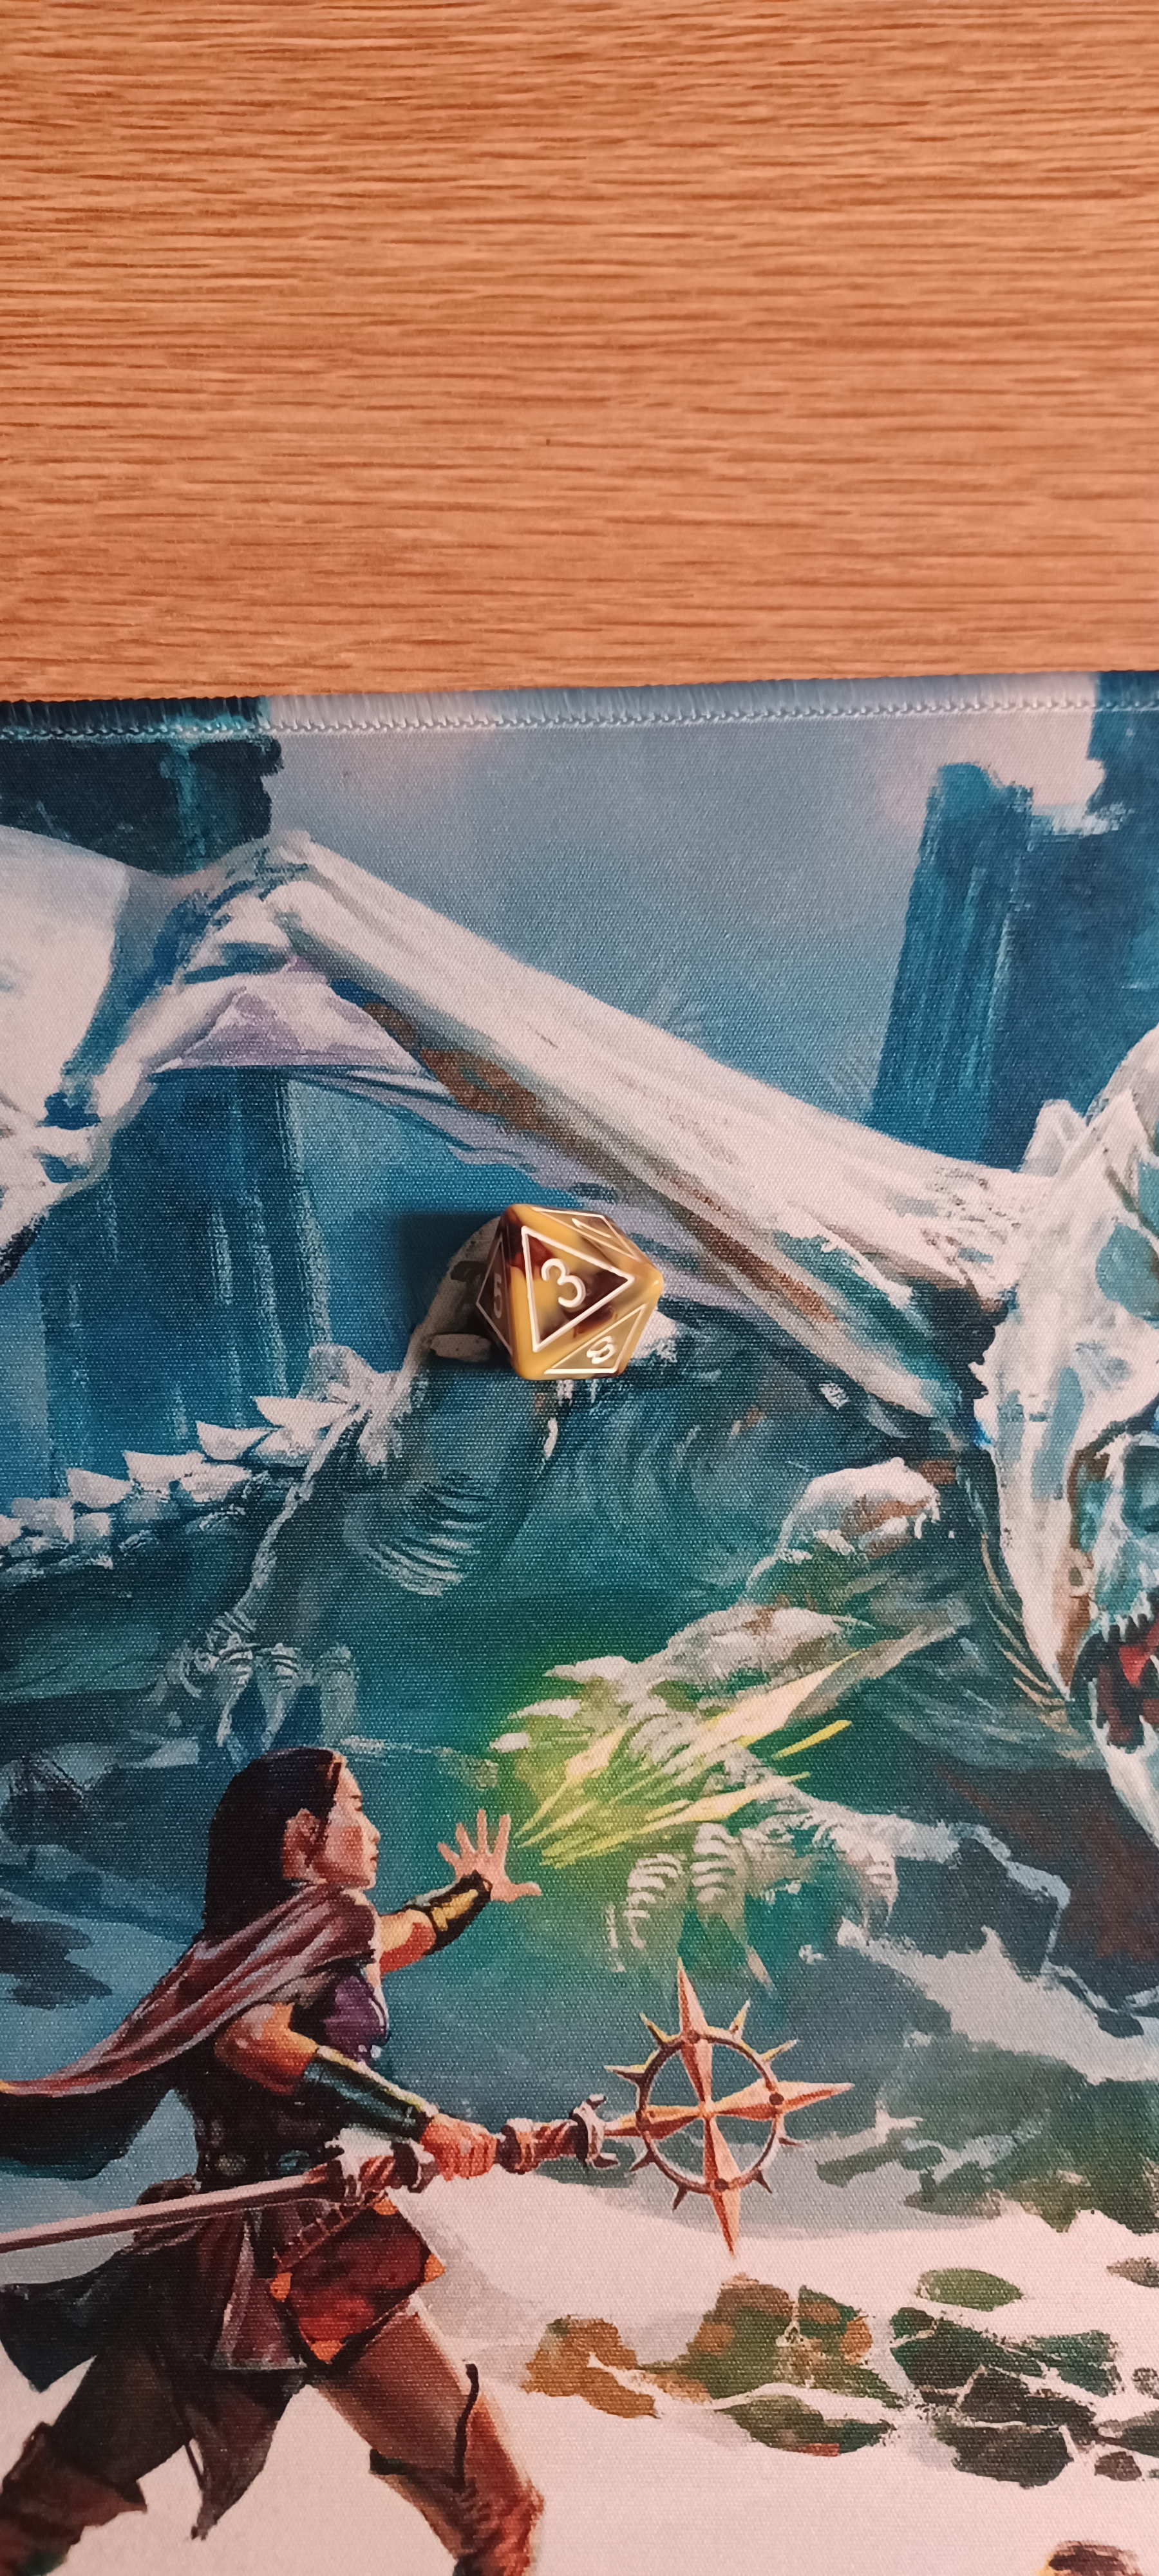three: (399, 1145, 701, 1431)
